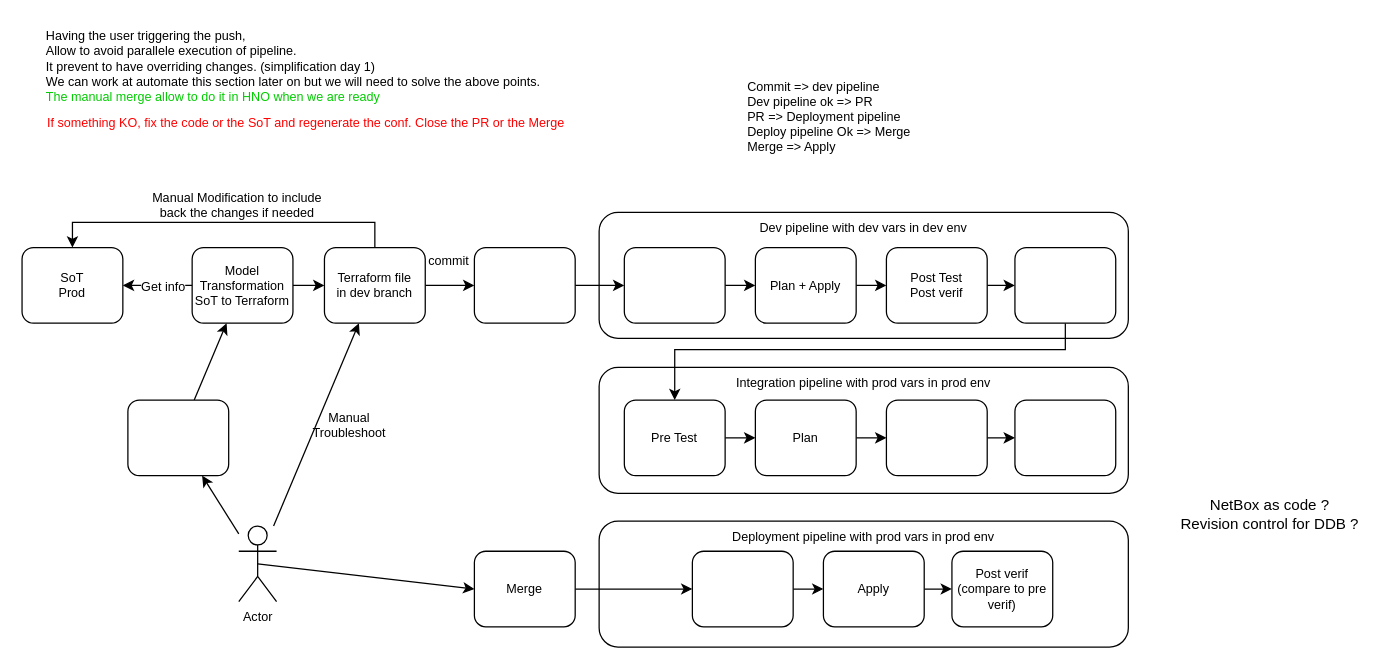
The diagram is 1392 pixels wide and 669 high, and some of its shapes have lost their labels. Here are the shapes that lost their labels. From the top down, the centre of each, then its label:
pixel 524 284: version control system dev branch
pixel 674 284: Pre Test Pre verif
pixel 1065 284: Create Pull Request to main branch
pixel 178 437: Push a button to generate device conf
pixel 936 437: Post Test
pixel 1065 437: PR Check ok, Merge available
pixel 742 588: Pre verif
